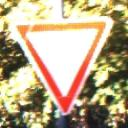preferencia: (8, 14, 116, 116)
